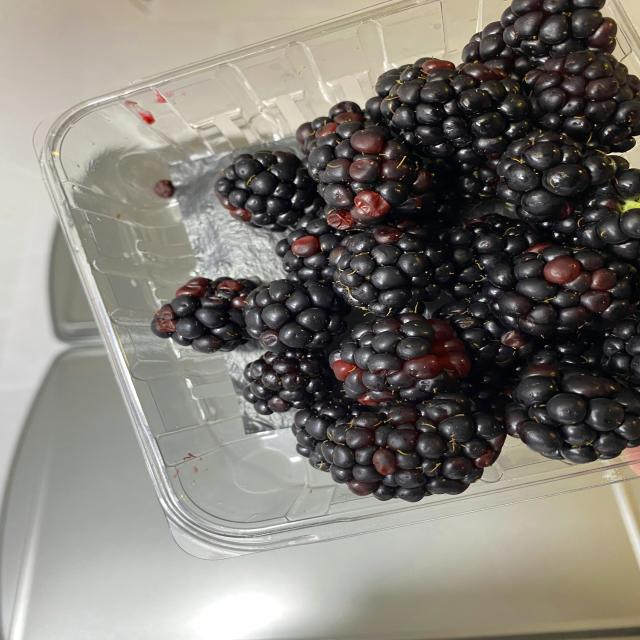blackberries: (142, 0, 640, 505)
